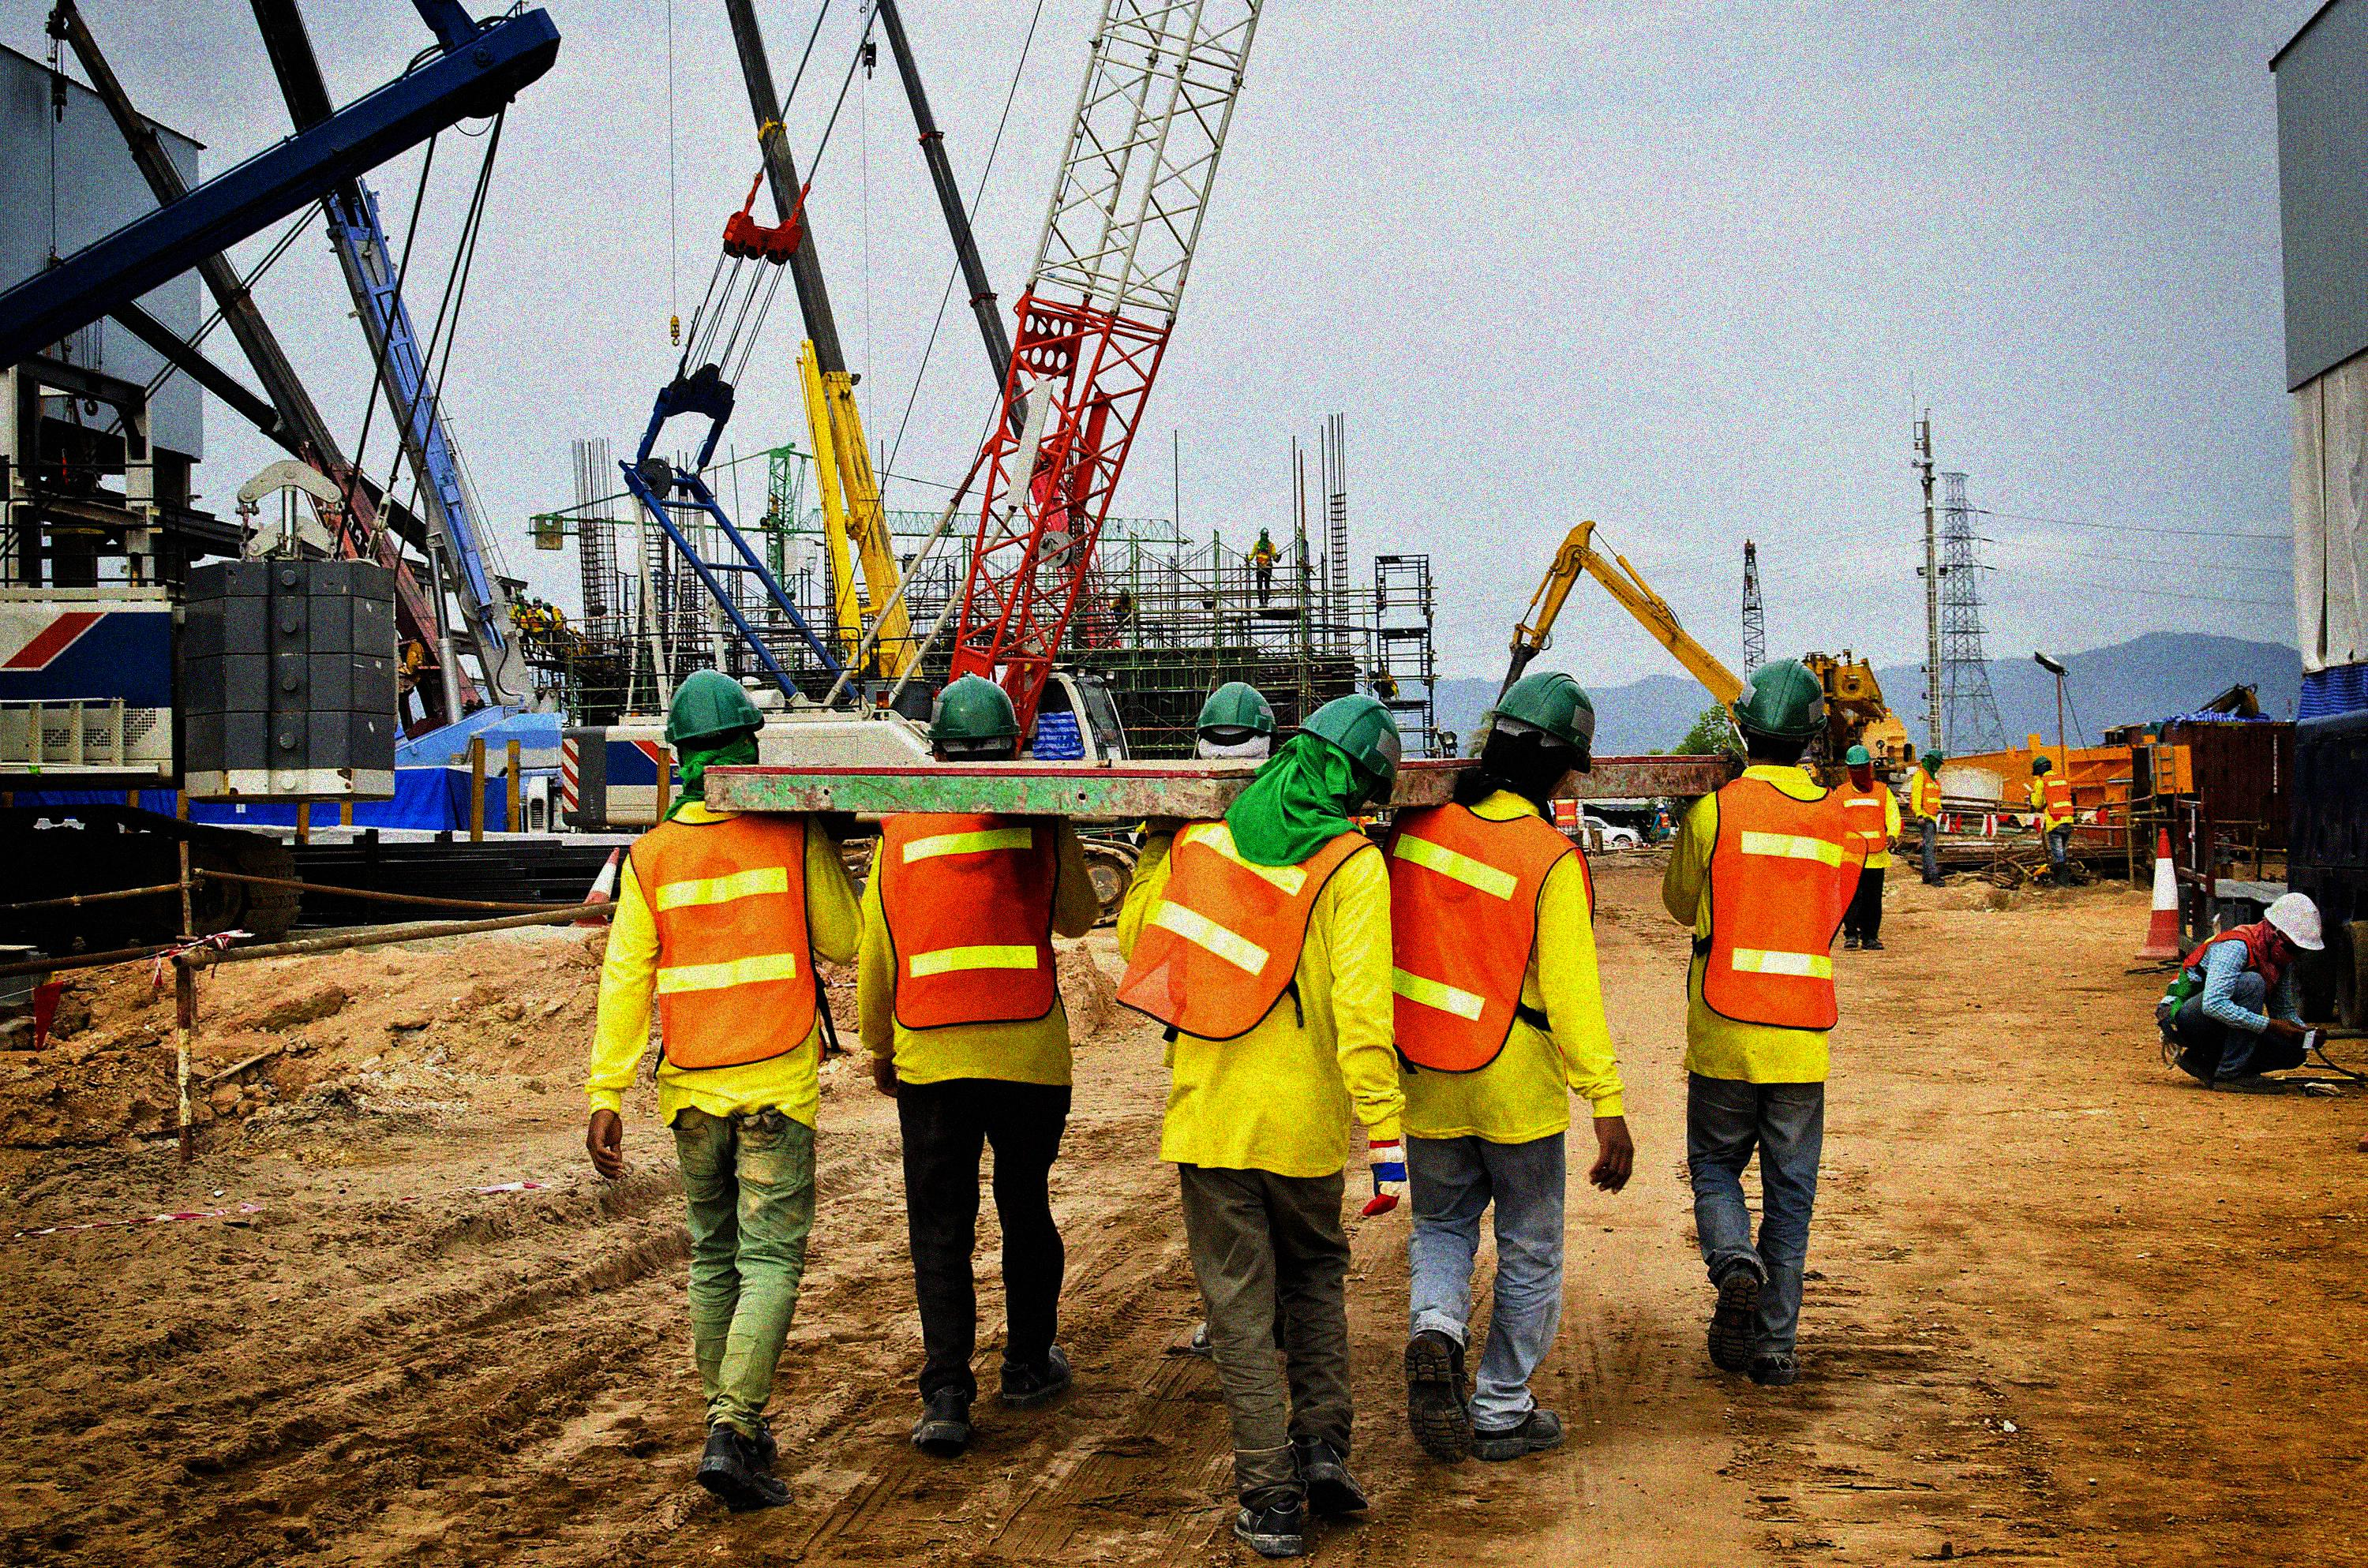helmet: (1482, 668, 1596, 805), (1295, 691, 1402, 822), (1726, 654, 1836, 777), (667, 668, 765, 768), (922, 670, 1026, 763), (1194, 679, 1281, 775), (2258, 884, 2328, 971), (1845, 744, 1873, 787), (1923, 747, 1944, 775), (2030, 754, 2053, 779), (1258, 525, 1271, 541), (1120, 586, 1131, 600), (515, 593, 525, 604), (532, 595, 541, 607), (543, 602, 553, 611)
